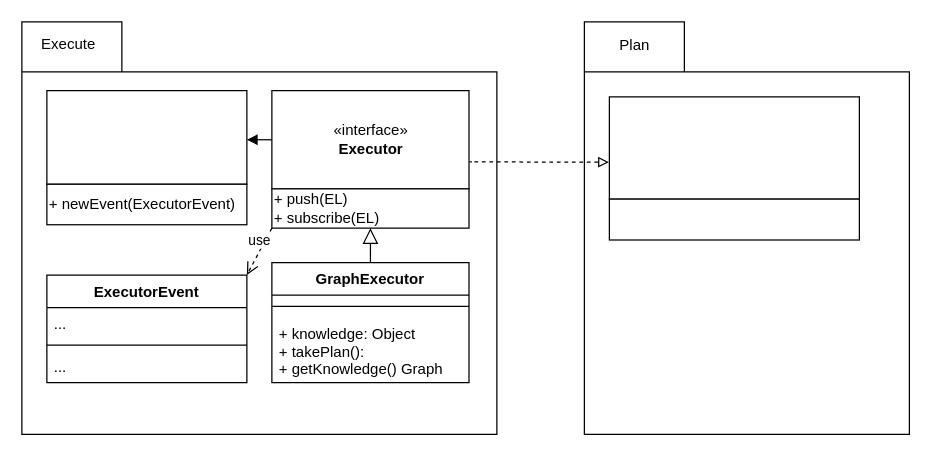
This 931x456 diagram has some shape labels left out. Each missing label, with the box of its shape:
+ newPlan(PlanEvent): (608, 198, 859, 240)
«interface» ExecutorListener: (46, 89, 247, 184)
«interface» PlannerListener: (608, 96, 859, 199)
